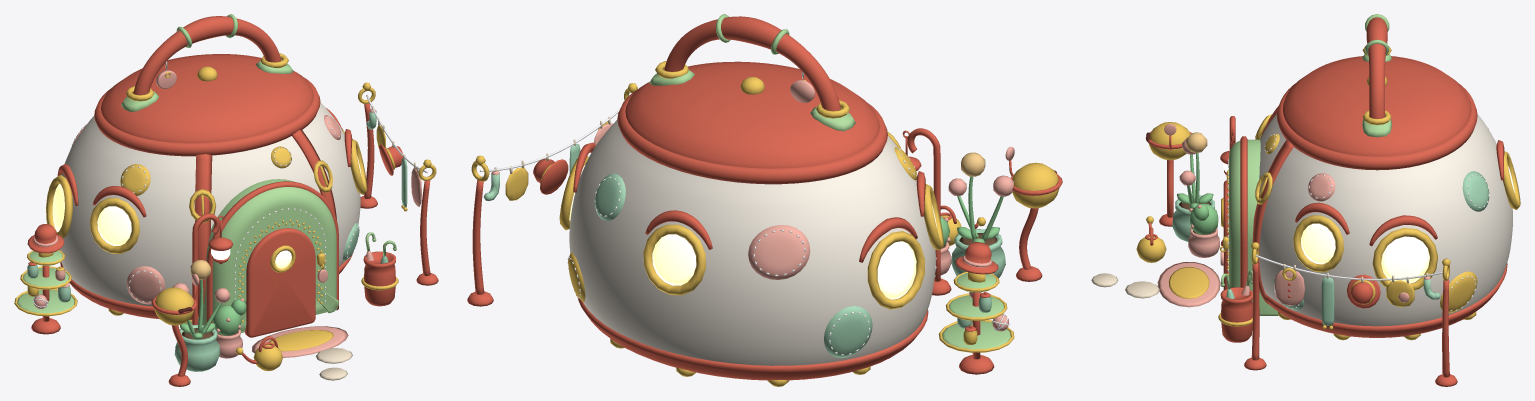
Rendered from house_08_0809.fbx.
3 views of the same model, side by side, from view 1: azimuth 30°, elevation 25°; view 2: azimuth 150°, elevation 25°; view 3: azimuth 270°, elevation 25° (orthographic). The views are drawn at different scales.
Parts seen in each view (by area): view 1: House_Body_Bag, House_Lid, Entrance_Pocket, Entrance_Door, House_RimPiping, Roof_Handle, Window_Grommets, Prop_RoundShelf, Wall_Straps, Entrance_Mat, Prop_Clothesline_Posts, Window_Glass (+25 smaller); view 2: House_Body_Bag, House_Lid, Window_Grommets, House_RimPiping, House_BaseTrim, Roof_Handle, Prop_RoundShelf, Window_Glass, Wall_Patches_Mint, Wall_Patches_Pink, Window_Eyelids, Prop_Laundry (+11 smaller); view 3: House_Body_Bag, House_Lid, Prop_Laundry, House_RimPiping, Entrance_Pocket, Window_Grommets, Window_Glass, House_BaseTrim, Entrance_Mat, Prop_Clothesline_Posts, Roof_Handle, Prop_UmbrellaStand (+19 smaller).
Boxes of the visible parts, x1,y1,x2,y2 form: House_Body_Bag: (59, 102, 360, 306); House_Lid: (101, 54, 313, 143); Entrance_Pocket: (191, 179, 338, 332); Entrance_Door: (245, 228, 315, 337); House_RimPiping: (94, 77, 320, 156); Roof_Handle: (133, 16, 281, 95); Window_Grommets: (46, 128, 367, 253); Prop_RoundShelf: (14, 250, 77, 334); Wall_Straps: (195, 130, 336, 317); Entrance_Mat: (252, 326, 348, 357); Prop_Clothesline_Posts: (360, 103, 438, 285); Window_Glass: (52, 155, 361, 245); House_Body_Bag: (569, 120, 935, 365); House_Lid: (625, 61, 879, 168); Window_Grommets: (559, 156, 943, 309); House_RimPiping: (617, 90, 887, 184); House_BaseTrim: (577, 297, 928, 380); Roof_Handle: (664, 16, 840, 110); Prop_RoundShelf: (938, 272, 1014, 374); Window_Glass: (569, 165, 936, 299); Wall_Patches_Mint: (595, 173, 872, 357); Wall_Patches_Pink: (748, 225, 935, 279); Window_Eyelids: (573, 142, 925, 262); Prop_Laundry: (484, 122, 612, 200); House_Body_Bag: (1259, 114, 1512, 326); House_Lid: (1283, 56, 1471, 156); Prop_Laundry: (1274, 267, 1440, 329); House_RimPiping: (1277, 84, 1477, 170); Entrance_Pocket: (1229, 139, 1278, 315); Window_Grommets: (1293, 151, 1520, 290); Window_Glass: (1301, 166, 1514, 283); House_BaseTrim: (1265, 263, 1507, 337); Entrance_Mat: (1157, 262, 1220, 307); Prop_Clothesline_Posts: (1244, 263, 1457, 386); Roof_Handle: (1366, 17, 1387, 118); Prop_UmbrellaStand: (1218, 287, 1252, 342).
Size of the model in its own units: 6.32 by 3.85 by 5.71.
